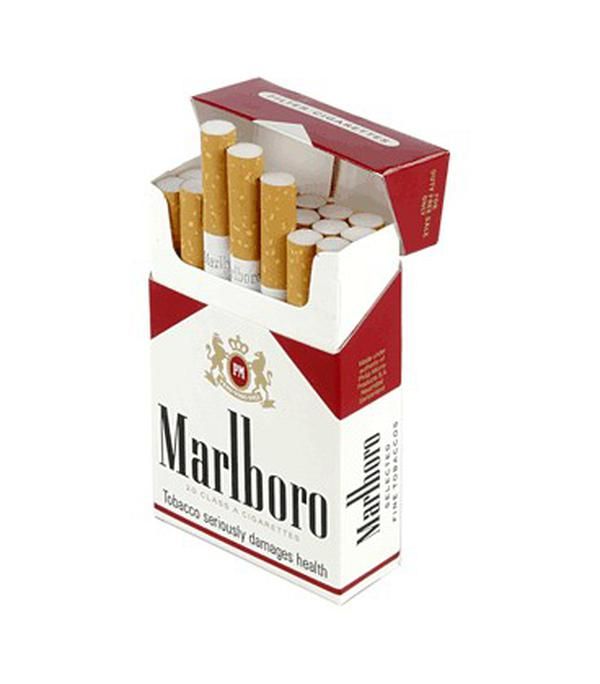marlboro_red: (149, 252, 344, 522)
